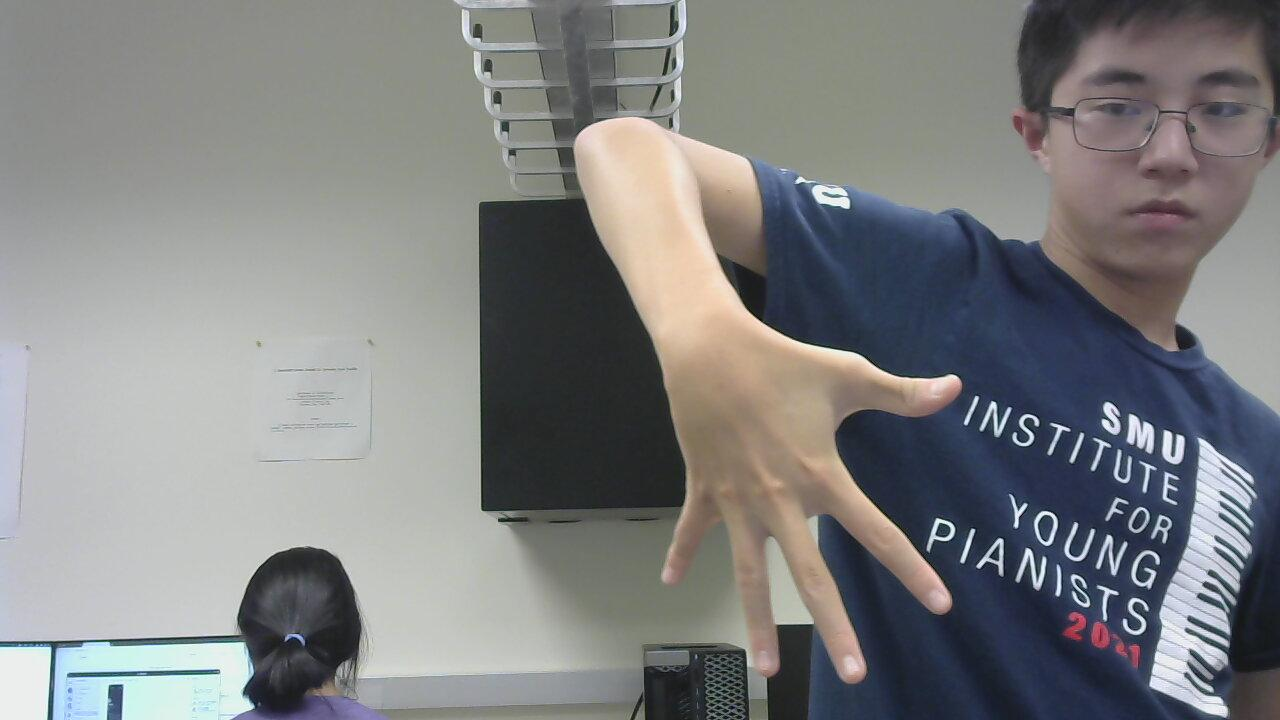hands: (636, 312, 989, 671)
